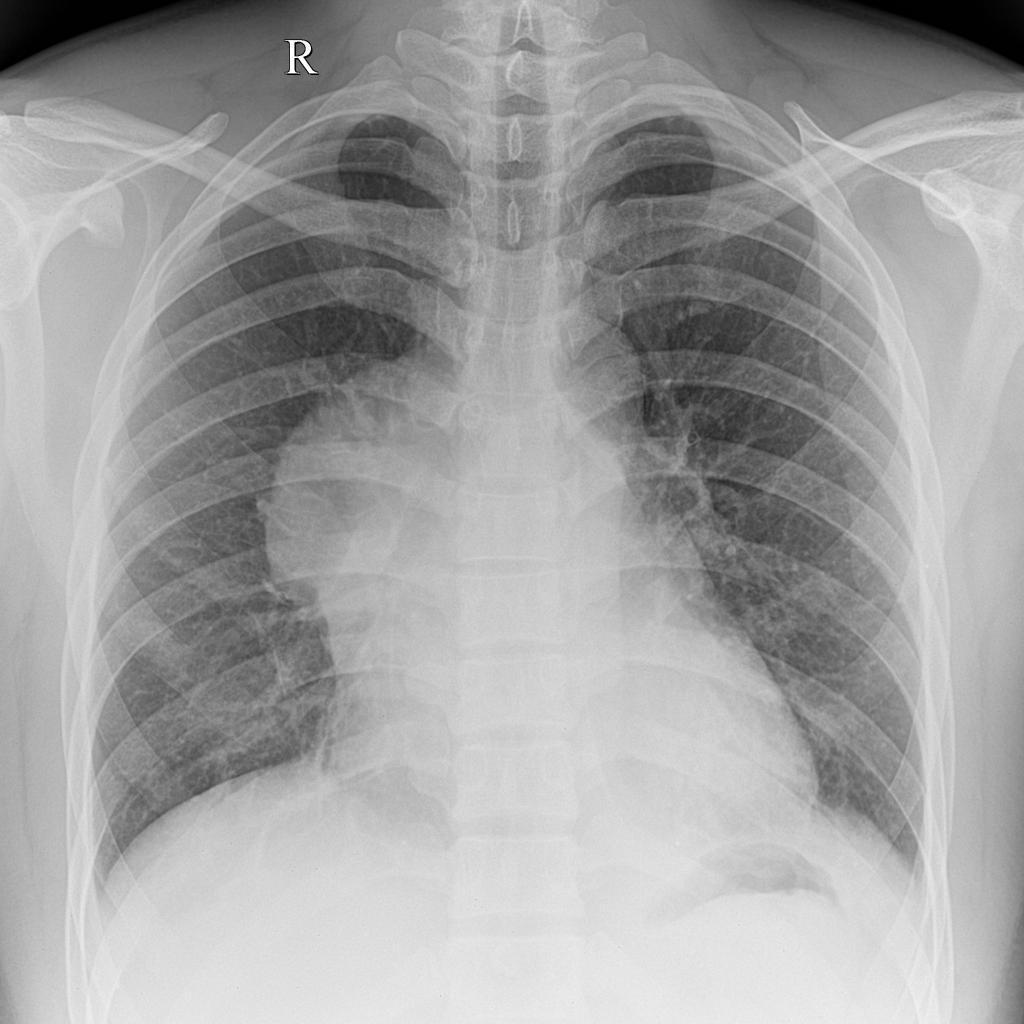Nodule: (218, 324, 469, 610)
